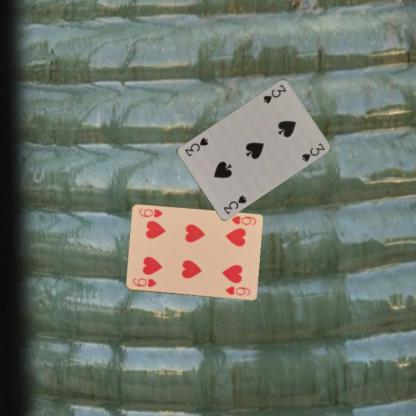3s: (221, 192, 248, 216), (260, 82, 288, 104)
6h: (228, 213, 257, 227), (130, 276, 158, 288)
